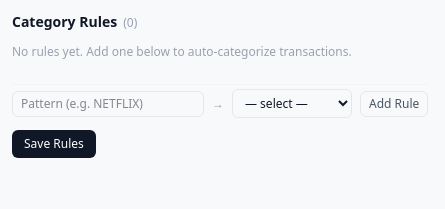
Test: CategoryRulesPanel › adds a new rule when pattern and category are provided
Type "DISNEY" into the field with placeholder "Pattern (e.g. NETFLIX)". click: {"x": 108, "y": 104}
box: [12,90,204,116]
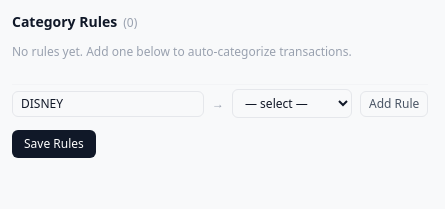
Select "Entertainment" in the dropdown. click: {"x": 292, "y": 104}
box: [232,89,352,118]
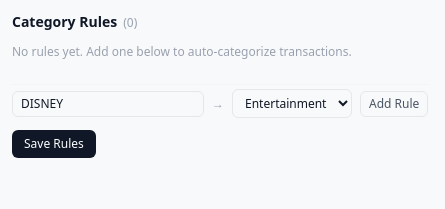
Click the button "Add Rule". click: {"x": 394, "y": 104}
box: [360,90,428,116]
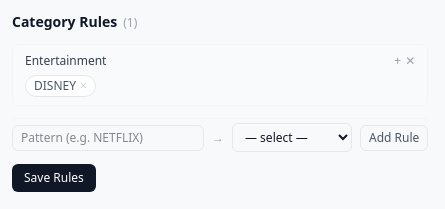
Check: the text "DISNEY" is shown, box [34,77,76,94]
